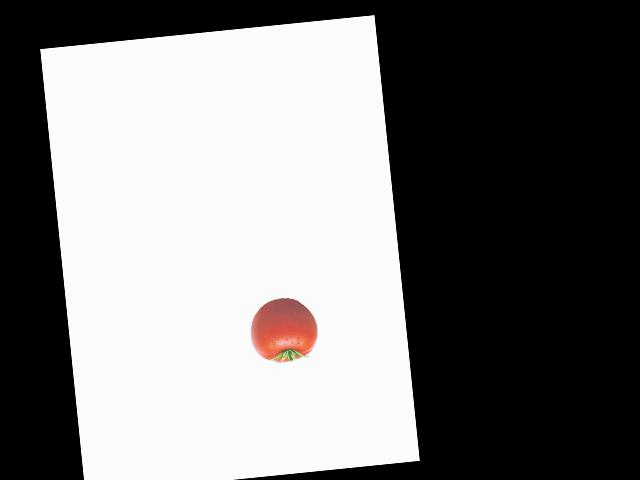tomato: (255, 295, 320, 364)
